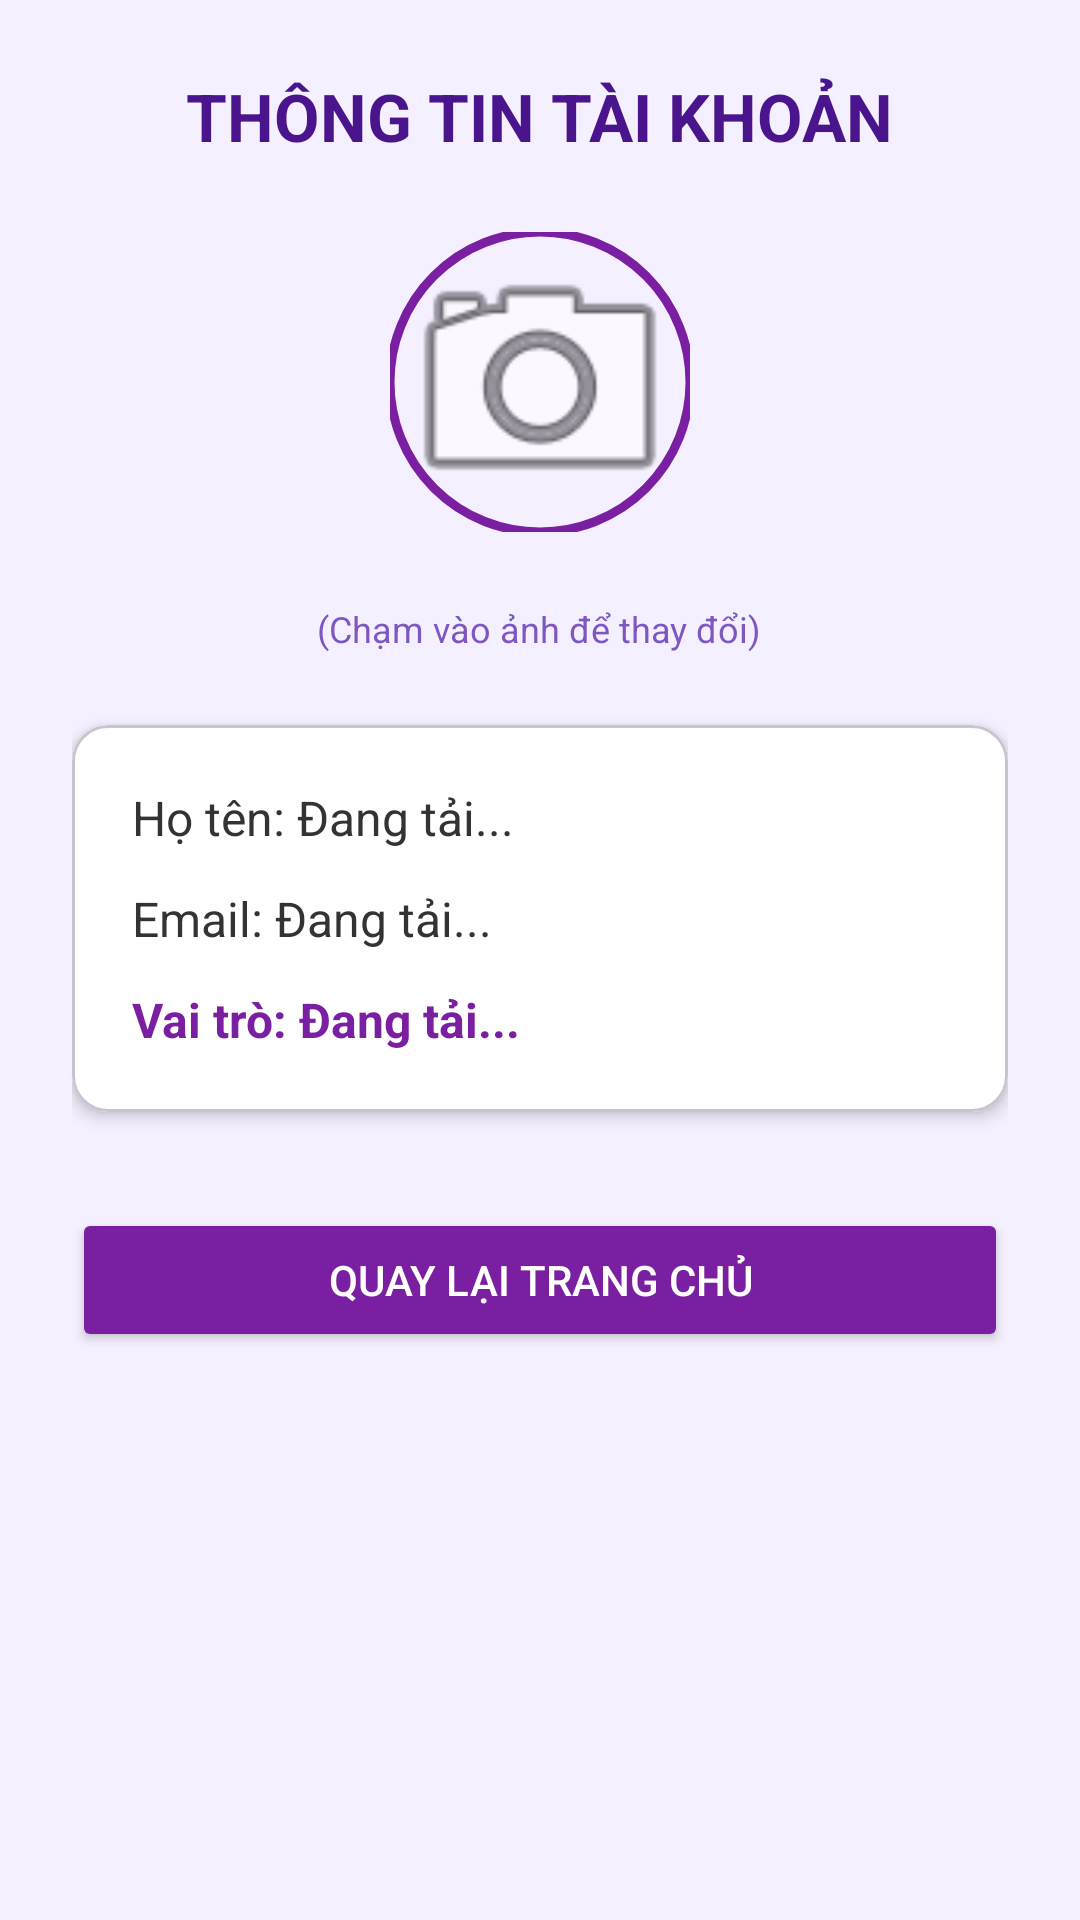

Icons on this 1080 × 1920 Android screen, each with the point to tap as [x,y]:
camera: [540,382]
